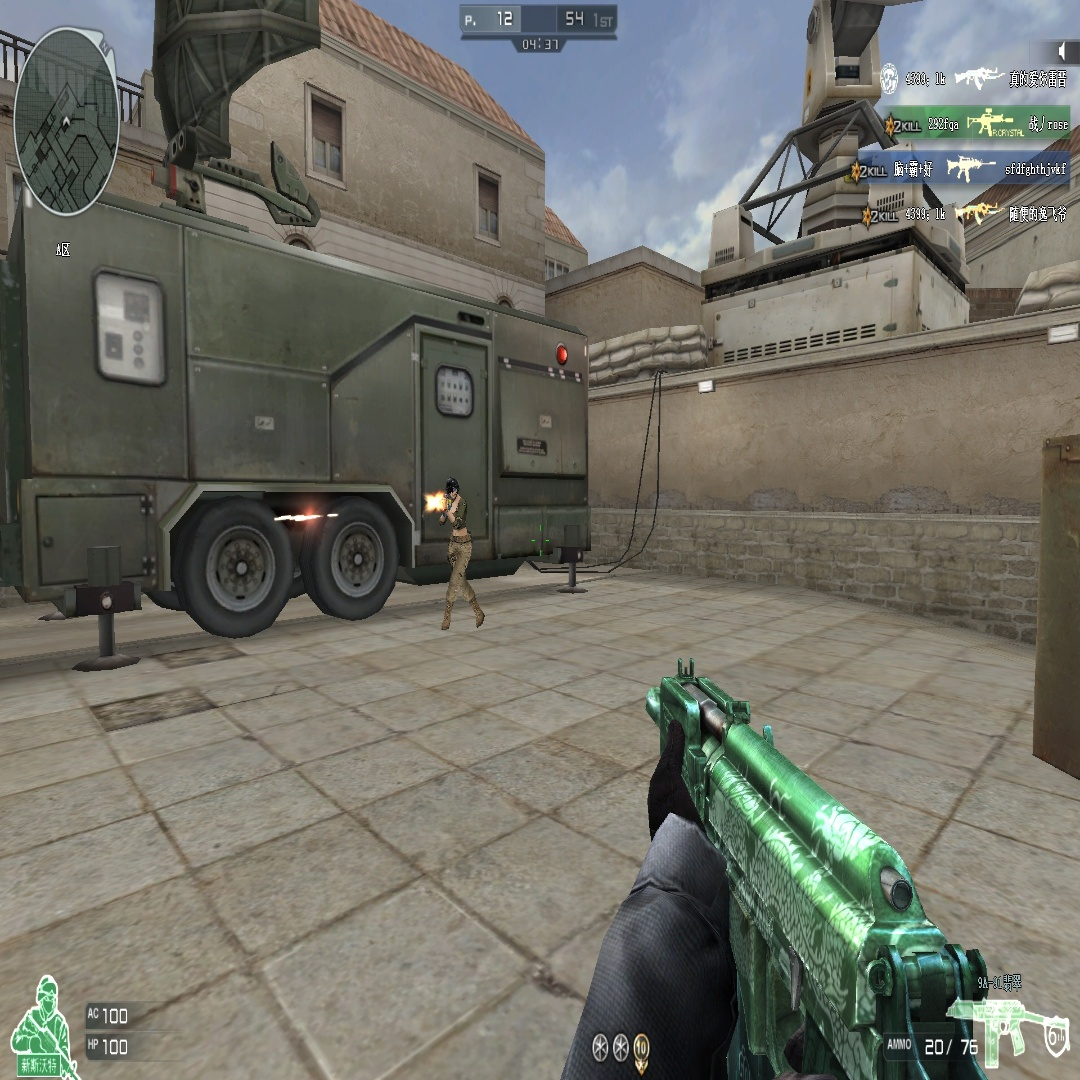head: (446, 476, 461, 502)
p: (440, 474, 484, 633)
